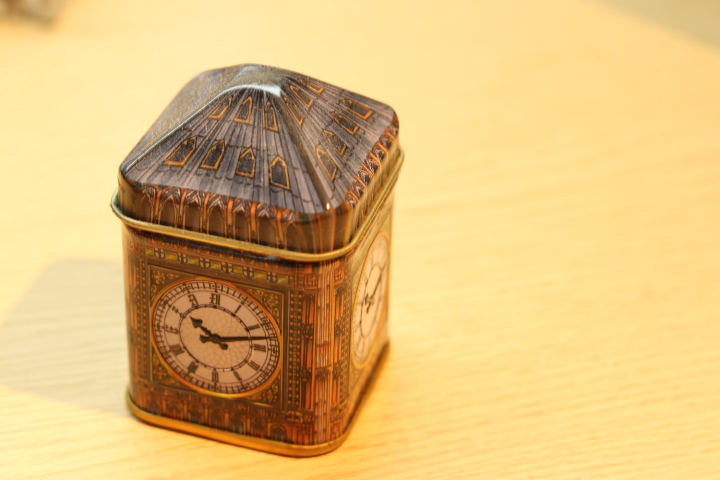Big Ben: (99, 55, 408, 463)
